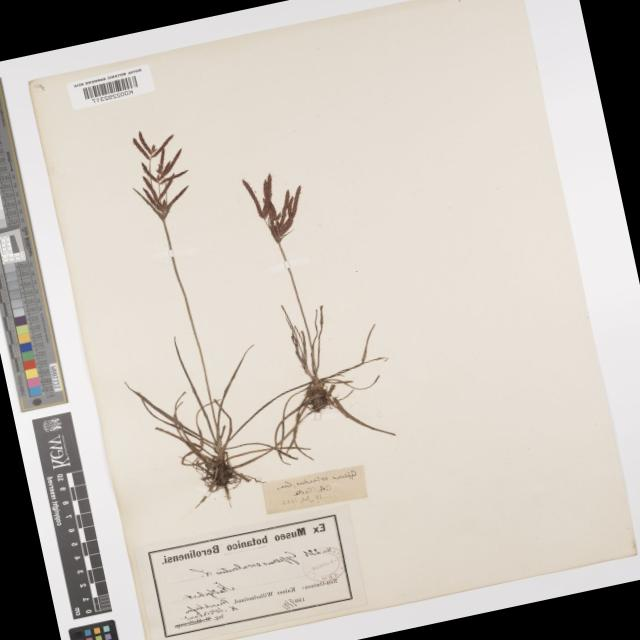cyperus: (116, 121, 203, 230), (233, 160, 319, 245)
